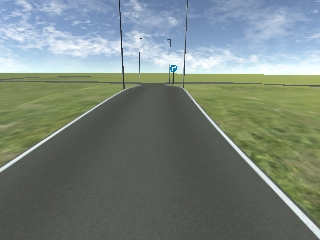right: (168, 64, 178, 72)
